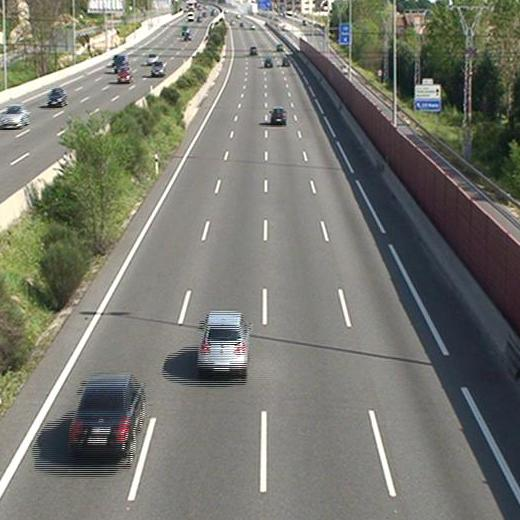car: (69, 378, 145, 460), (197, 314, 250, 378), (269, 108, 286, 126), (264, 59, 273, 69), (283, 57, 290, 66)
